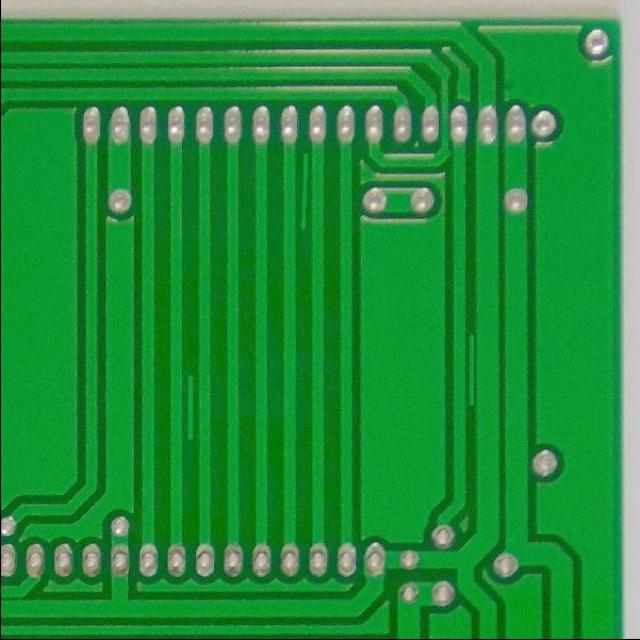Spurious_Cooper: (296, 147, 314, 234), (462, 328, 479, 410), (182, 369, 199, 444)
